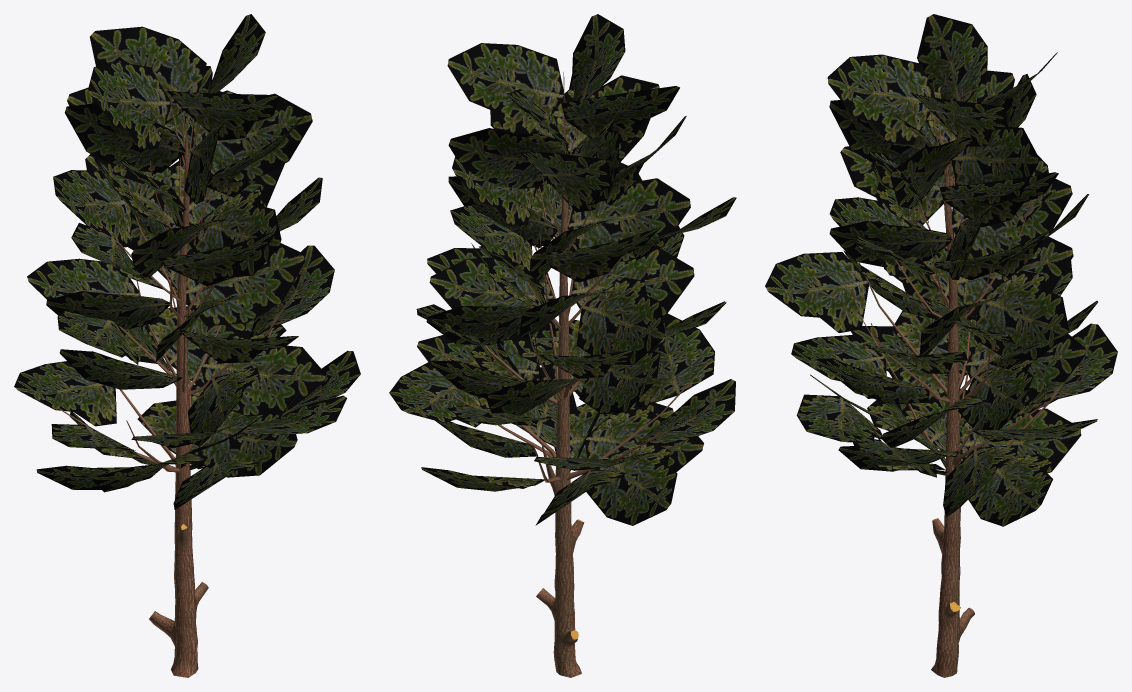
File: ARBOL_PRINCIPAL_SEPARADO_UVS_FINAL.fbx
The picture shows the model from 3 angles, left to right: view 1: azimuth 30°, elevation 25°; view 2: azimuth 150°, elevation 25°; view 3: azimuth 270°, elevation 25°; orthographic projection.
Visible parts, largest first — view 1: LOD0.001, LOD0, LOD0.002; view 2: LOD0.001, LOD0, LOD0.002; view 3: LOD0.001, LOD0, LOD0.002.
Part boxes in pixels (left/top/right/bottom): LOD0.001: left=14, top=14, right=360, bottom=509; LOD0: left=57, top=79, right=289, bottom=627; LOD0.002: left=149, top=611, right=198, bottom=677; LOD0.001: left=389, top=14, right=736, bottom=525; LOD0: left=438, top=72, right=709, bottom=630; LOD0.002: left=553, top=627, right=581, bottom=677; LOD0.001: left=765, top=14, right=1117, bottom=526; LOD0: left=858, top=77, right=1083, bottom=630; LOD0.002: left=931, top=607, right=974, bottom=677.
Size of the model in its own units: 39.09 by 76.29 by 39.85.
